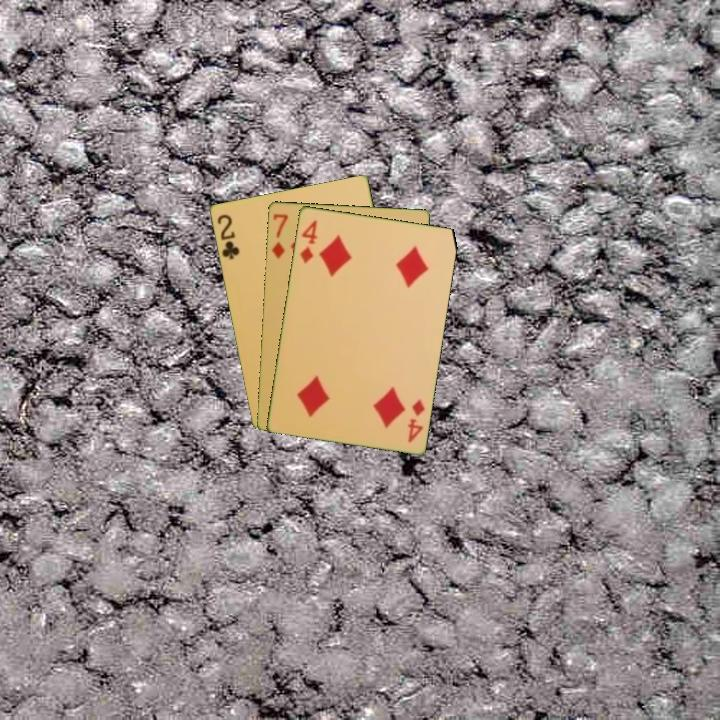2c: (213, 210, 242, 262)
4d: (296, 216, 320, 266), (404, 395, 428, 445)
7d: (268, 210, 290, 261)
